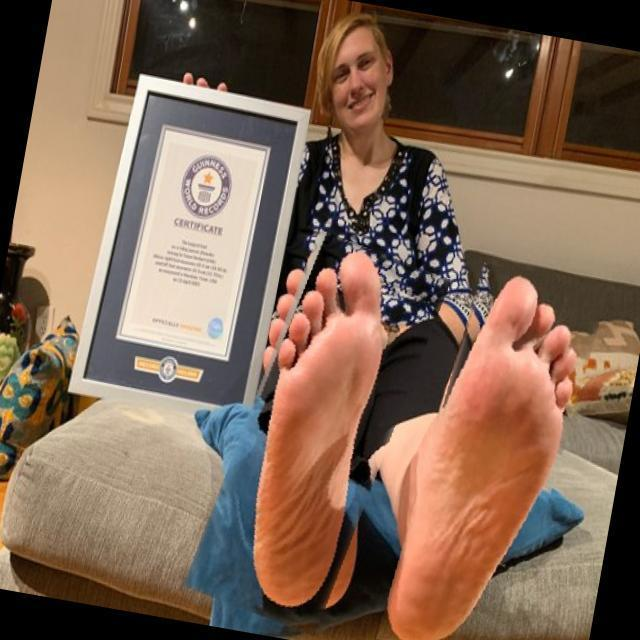Barefoots: (368, 244, 611, 640), (217, 233, 409, 633)
